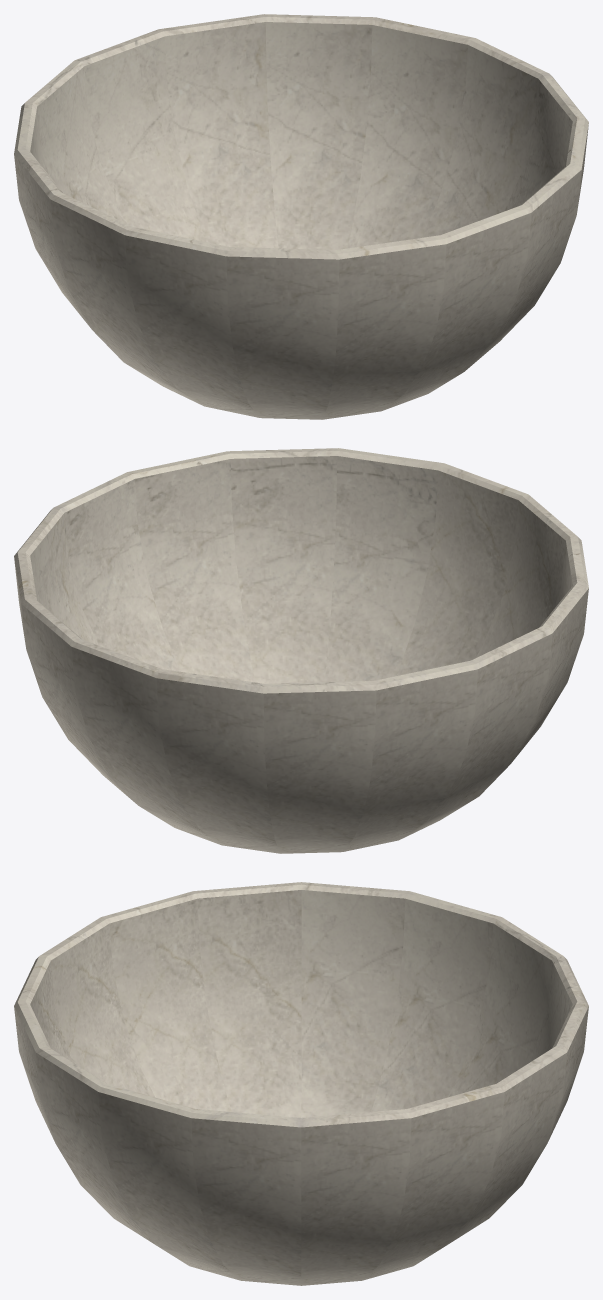
File: bowl.fbx
3 renders of one model, top to bottom at view 1: azimuth 30°, elevation 25°; view 2: azimuth 150°, elevation 25°; view 3: azimuth 270°, elevation 25°, orthographic.
Visible parts, largest first — view 1: pSphere1; view 2: pSphere1; view 3: pSphere1.
Boxes of the visible parts, x1=… form: pSphere1: x1=14, y1=14, x2=588, y2=419; pSphere1: x1=14, y1=448, x2=588, y2=853; pSphere1: x1=14, y1=882, x2=588, y2=1285.
Size of the model in its own units: 0.1722 by 0.0773 by 0.1722.
